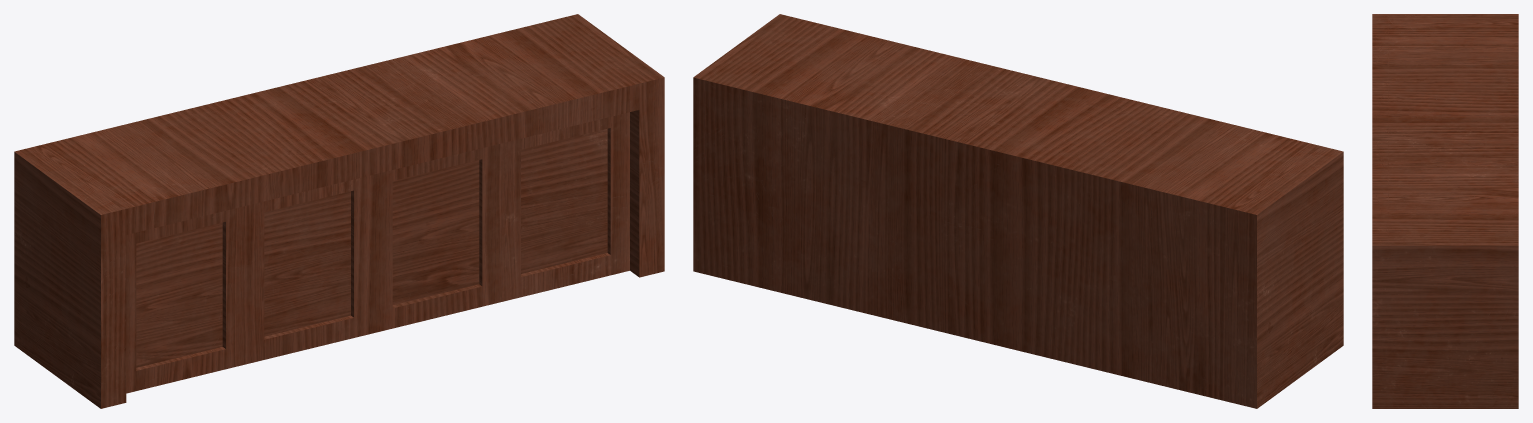
File: SM_Desk.fbx
The picture shows the model from 3 angles, left to right: view 1: azimuth 30°, elevation 25°; view 2: azimuth 150°, elevation 25°; view 3: azimuth 270°, elevation 25°; orthographic projection. The views are drawn at different scales.
Visible parts, largest first — view 1: Desk; view 2: Desk; view 3: Desk.
Boxes of the visible parts, <box> form: Desk: <box>14,14,664,408</box>; Desk: <box>693,14,1343,408</box>; Desk: <box>1372,14,1518,408</box>.
Size of the model in its own units: 4.07 by 1.34 by 1.08.
